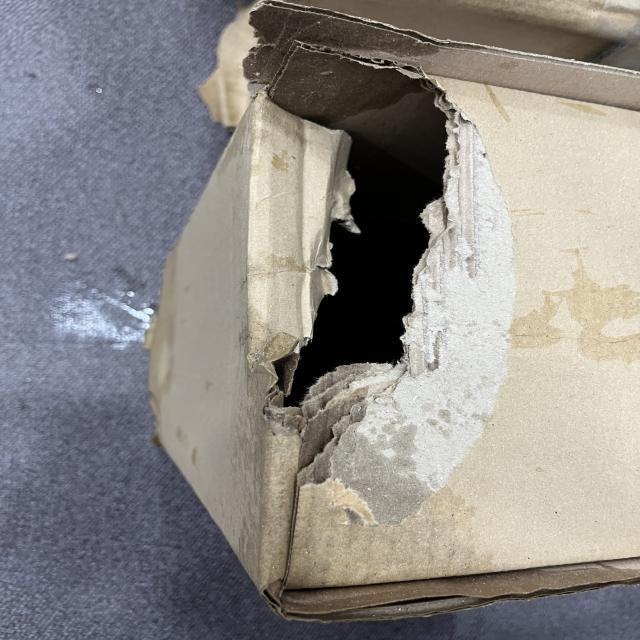hole: (226, 15, 460, 415)
